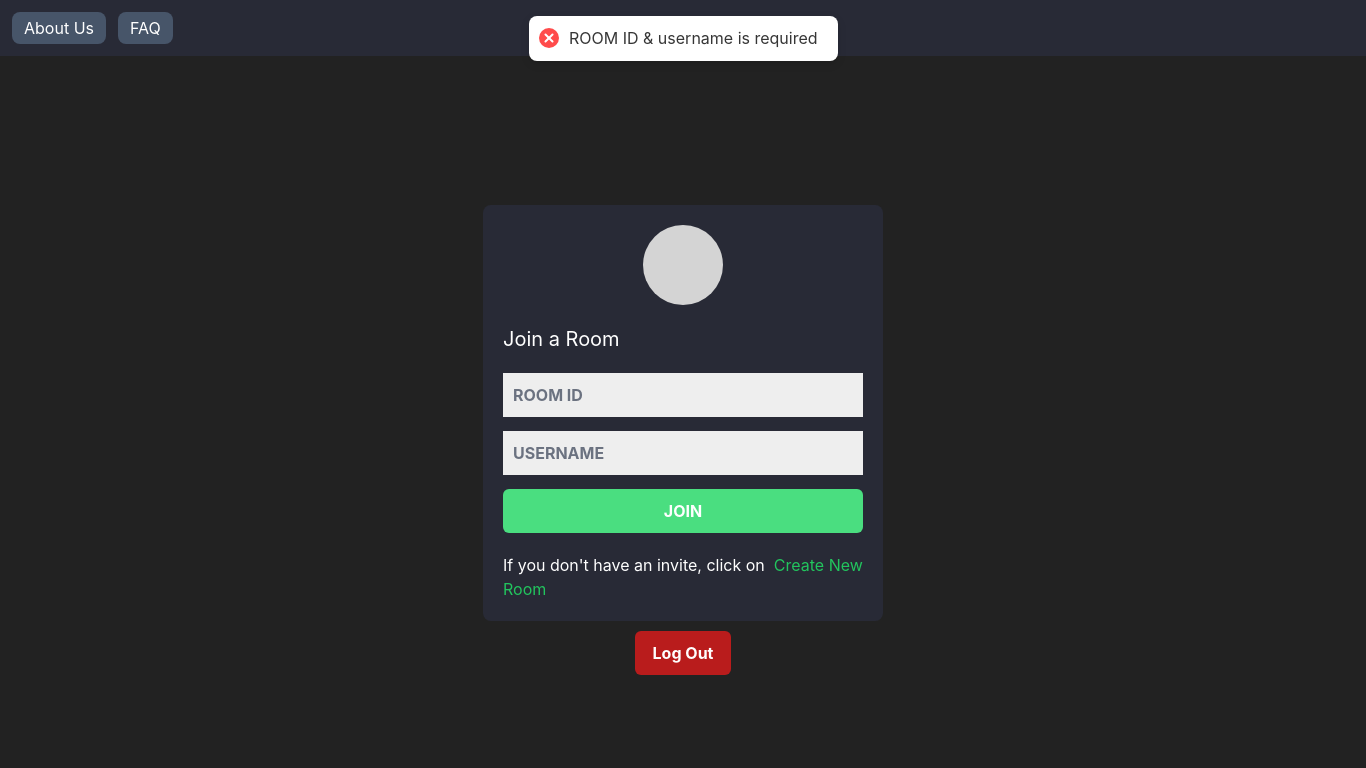
RoomJoin › displays error message if room is full
Fill input fields and click join button
Type "exampleRoomId" into the field with placeholder "ROOM ID". click: (683, 395)
box: [503,373,863,417]
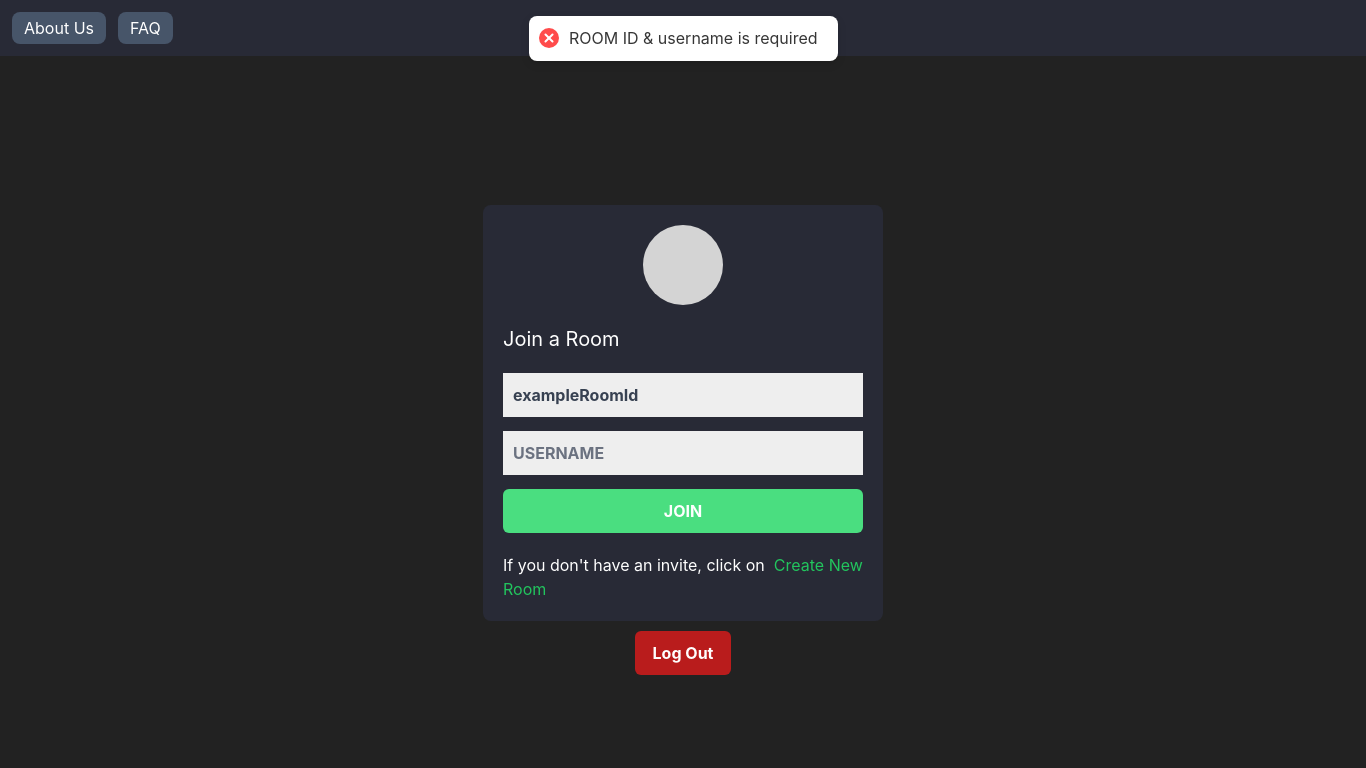
Type "exampleUsername" into the field with placeholder "USERNAME". click: (683, 453)
box: [503,431,863,475]
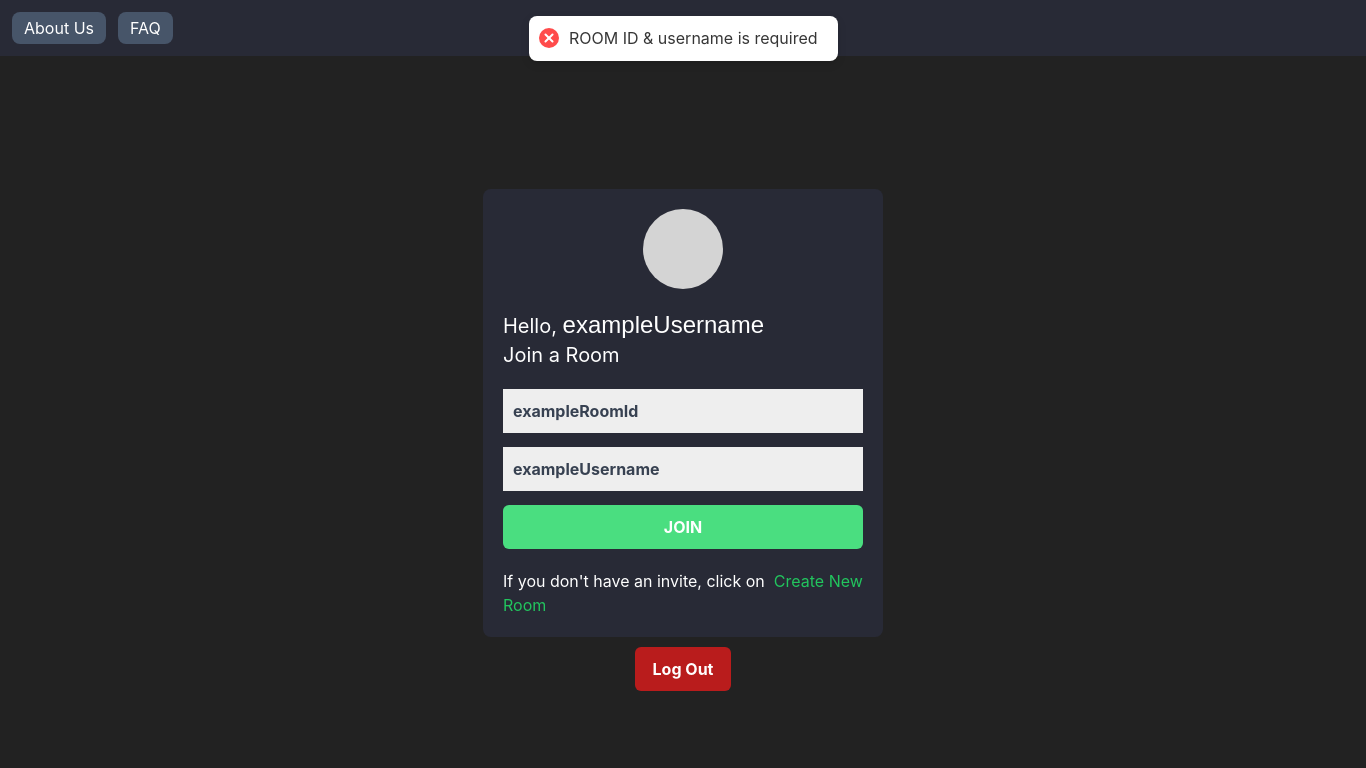
Click the button "JOIN". click: (683, 527)
box: [503,505,863,549]
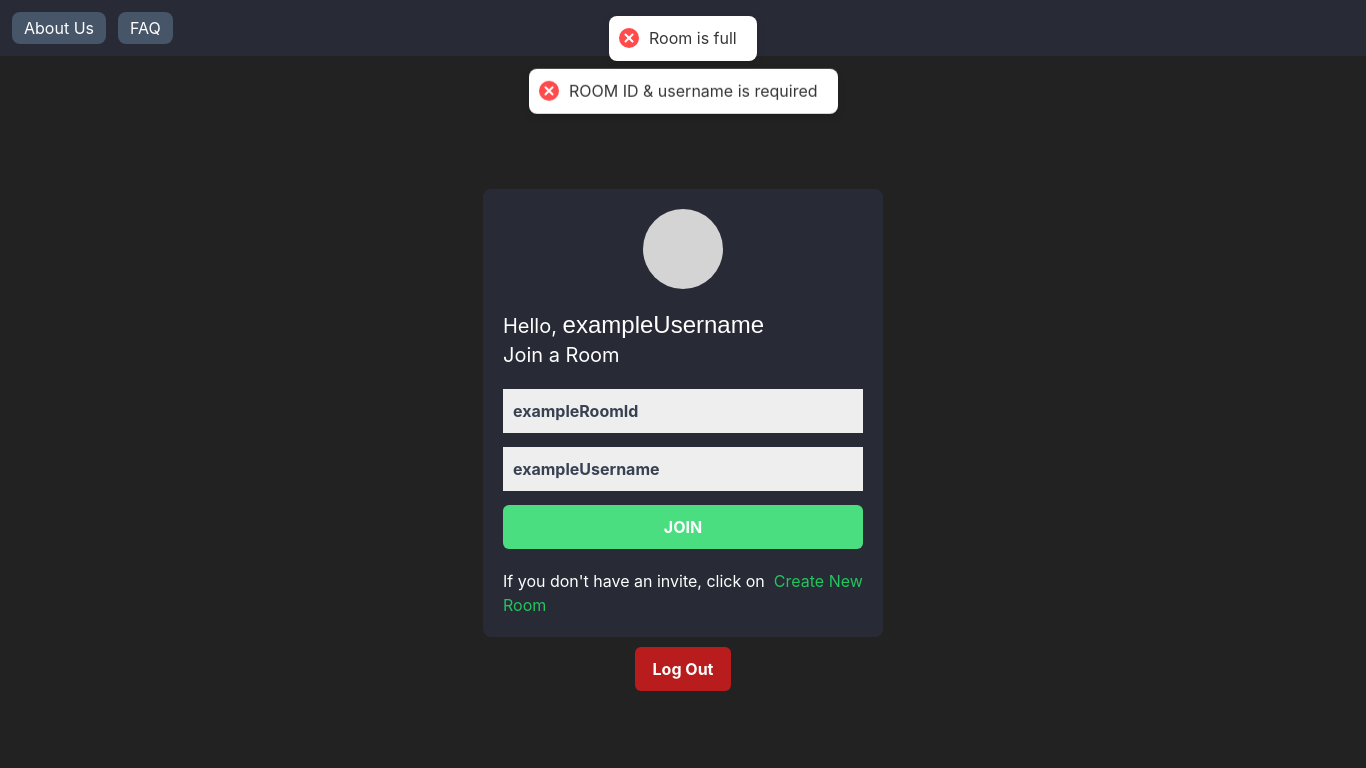
Check: the text "Room is full" is shown, box [649,28,737,49]
